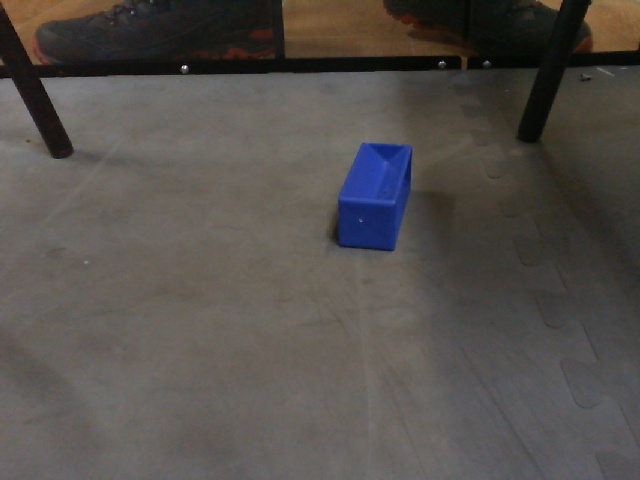BlueSample: (330, 138, 416, 257)
